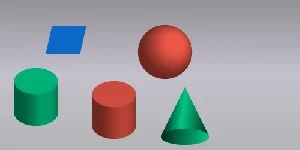圆柱体: (90, 79, 138, 140), (13, 66, 60, 127)
圆锥体: (161, 86, 210, 145)
平行四边形: (45, 24, 87, 56)
球体: (137, 24, 193, 80)
